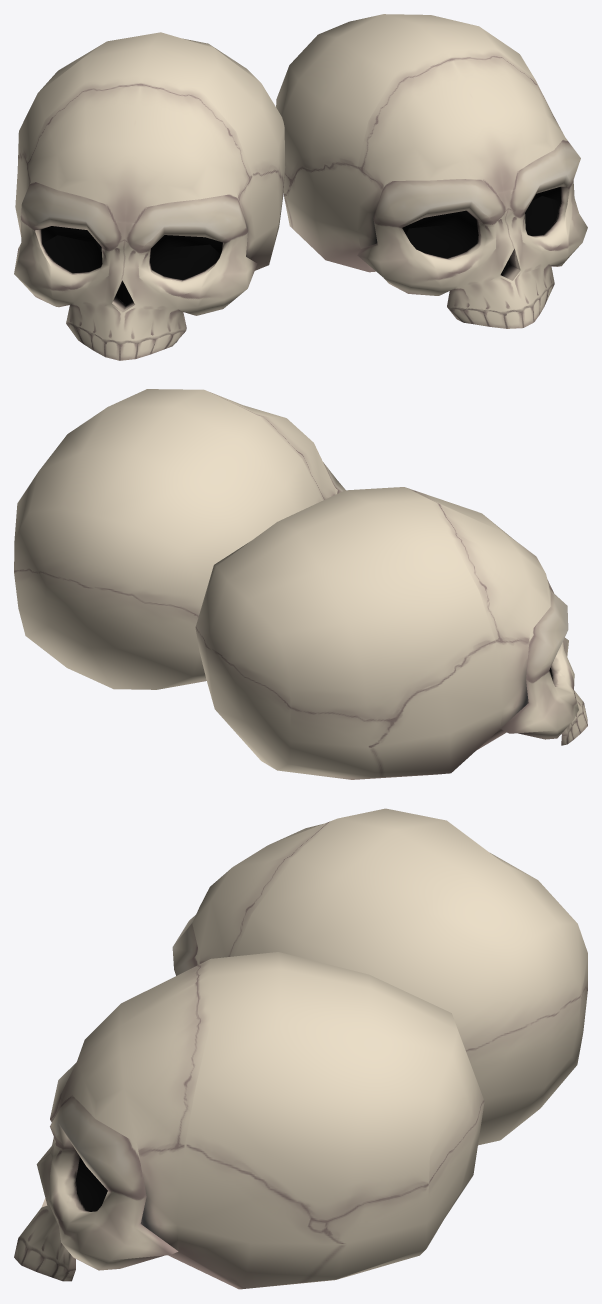
Rendered from Calavera_Comp (2).fbx.
3 renders of one model, top to bottom at view 1: azimuth 30°, elevation 25°; view 2: azimuth 150°, elevation 25°; view 3: azimuth 270°, elevation 25°, orthographic. The views are drawn at different scales.
Parts seen in each view (by area): view 1: Calavera_Apilada; view 2: Calavera_Apilada; view 3: Calavera_Apilada.
Boxes of the visible parts, <box> form: Calavera_Apilada: <box>14,14,587,360</box>; Calavera_Apilada: <box>14,389,587,779</box>; Calavera_Apilada: <box>14,808,587,1289</box>.
Size of the model in its own units: 144 by 64.25 by 114.
